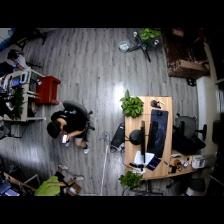normal: (47, 110, 89, 155), (35, 165, 83, 199), (5, 49, 31, 71)
